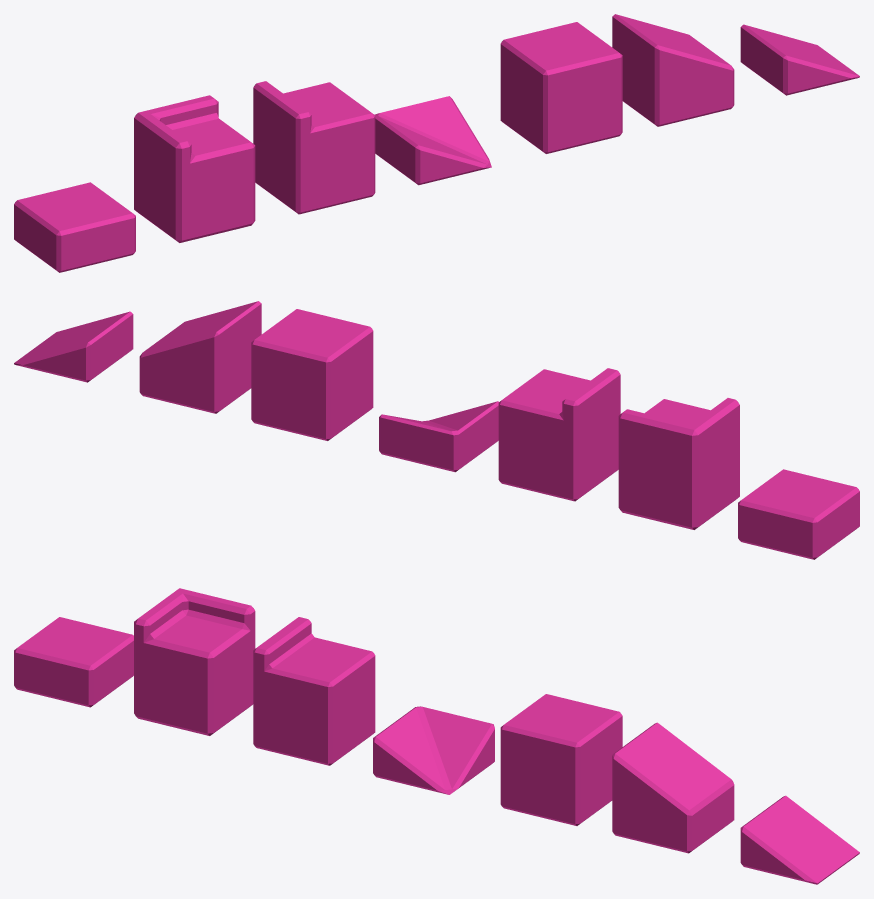
File: world-block-v1.glb
3 renders of one model, top to bottom at view 1: azimuth 30°, elevation 25°; view 2: azimuth 150°, elevation 25°; view 3: azimuth 330°, elevation 25°, orthographic.
Visible parts, largest first — view 1: BlockWallCorner, BlockWall, Block, RampTop, BlockShort, RamoLowerCorner, RampBottom; view 2: BlockWallCorner, BlockWall, Block, RampTop, BlockShort, RamoLowerCorner, RampBottom; view 3: BlockWallCorner, BlockWall, Block, RampTop, BlockShort, RamoLowerCorner, RampBottom.
Boxes of the visible parts, left/top/right/bottom form: BlockWallCorner: left=134, top=95, right=255, bottom=242; BlockWall: left=253, top=81, right=375, bottom=214; Block: left=500, top=22, right=622, bottom=153; RampTop: left=612, top=14, right=734, bottom=126; BlockShort: left=14, top=182, right=135, bottom=272; RamoLowerCorner: left=374, top=96, right=491, bottom=185; RampBottom: left=740, top=24, right=859, bottom=95; BlockWallCorner: left=618, top=398, right=739, bottom=529; BlockWall: left=498, top=368, right=620, bottom=501; Block: left=251, top=309, right=373, bottom=440; RampTop: left=139, top=301, right=261, bottom=413; BlockShort: left=738, top=469, right=859, bottom=559; RamoLowerCorner: left=379, top=401, right=498, bottom=472; RampBottom: left=14, top=311, right=133, bottom=382; BlockWallCorner: left=134, top=588, right=255, bottom=735; BlockWall: left=253, top=617, right=375, bottom=765; Block: left=500, top=694, right=622, bottom=825; RampTop: left=612, top=722, right=734, bottom=853; BlockShort: left=14, top=617, right=133, bottom=707; RamoLowerCorner: left=373, top=706, right=494, bottom=794; RampBottom: left=740, top=795, right=859, bottom=884.
Size of what is drawn, in the model's own units: 20.15 by 2.4 by 2.
